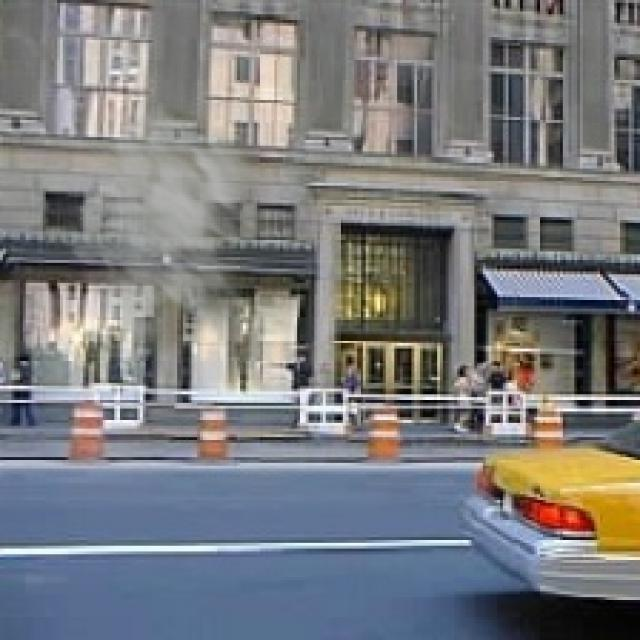Smoke: (60, 91, 292, 360)
